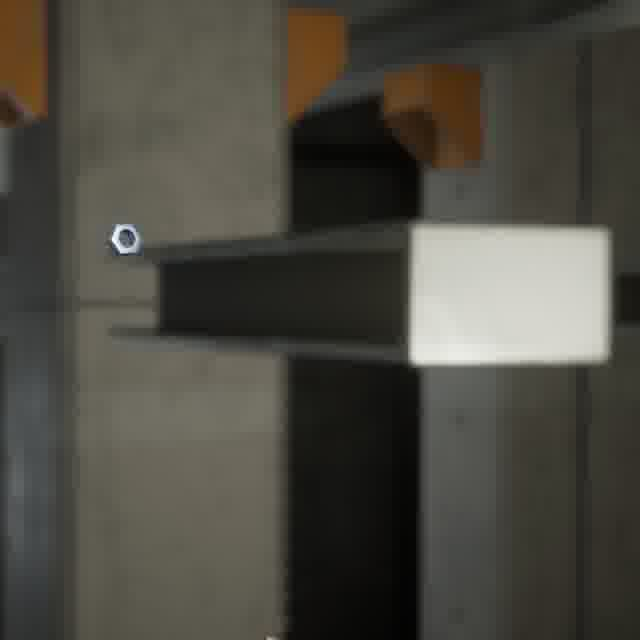nut: (101, 218, 146, 260)
